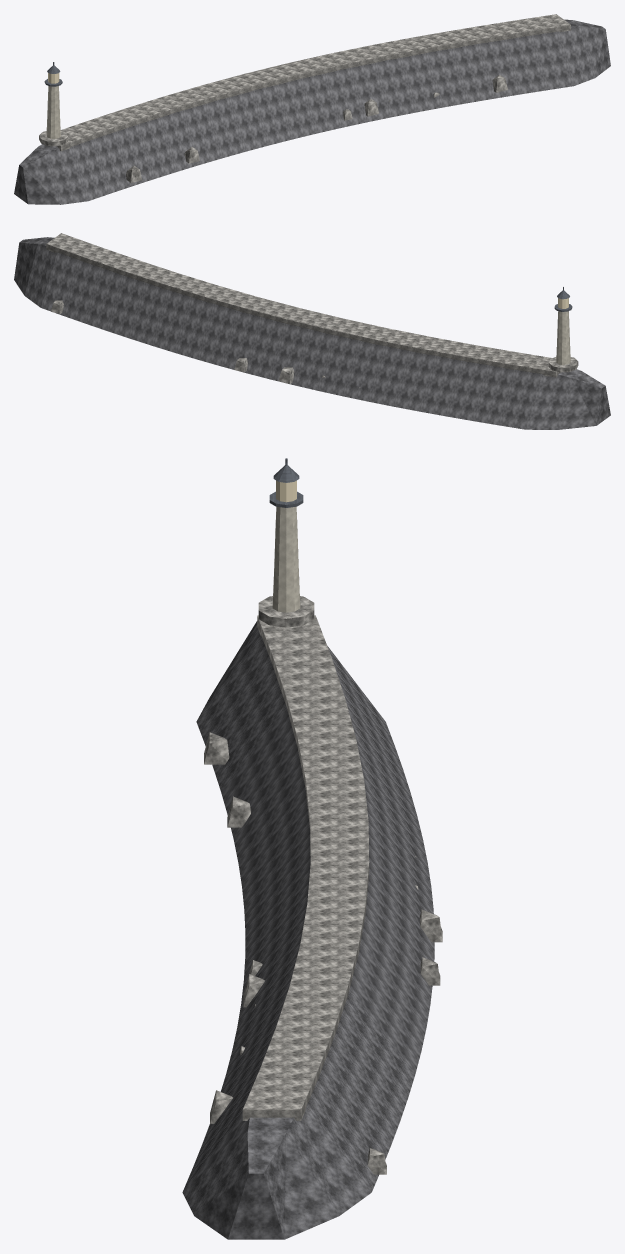
File: breakwater.fbx
3 renders of one model, top to bottom at view 1: azimuth 30°, elevation 25°; view 2: azimuth 150°, elevation 25°; view 3: azimuth 270°, elevation 25°, orthographic. The views are drawn at different scales.
Parts seen in each view (by area): view 1: breakwater; view 2: breakwater; view 3: breakwater.
Part boxes in pixels (x1=…): breakwater: x1=14, y1=14, x2=610, y2=204; breakwater: x1=14, y1=233, x2=610, y2=429; breakwater: x1=182, y1=458, x2=442, y2=1239.
Size of the model in its own units: 4800 by 995 by 934.
